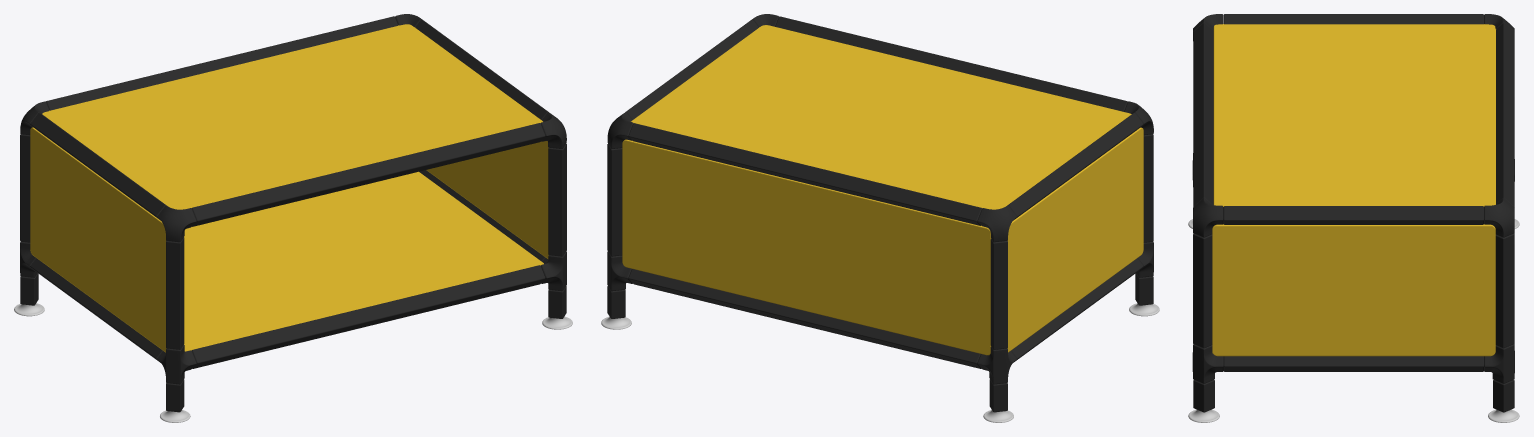
The picture shows the model from 3 angles, left to right: view 1: azimuth 30°, elevation 25°; view 2: azimuth 150°, elevation 25°; view 3: azimuth 270°, elevation 25°; orthographic projection. The views are drawn at different scales.
Visible parts, largest first — view 1: 523x329x154; view 2: 523x329x154; view 3: 523x329x154.
Part boxes in pixels (x1,y1,x2,y2): 523x329x154: (14, 14, 572, 422); 523x329x154: (601, 14, 1159, 422); 523x329x154: (1188, 14, 1519, 422).
Size of the model in its own units: 0.6129 by 0.2933 by 0.4182.
